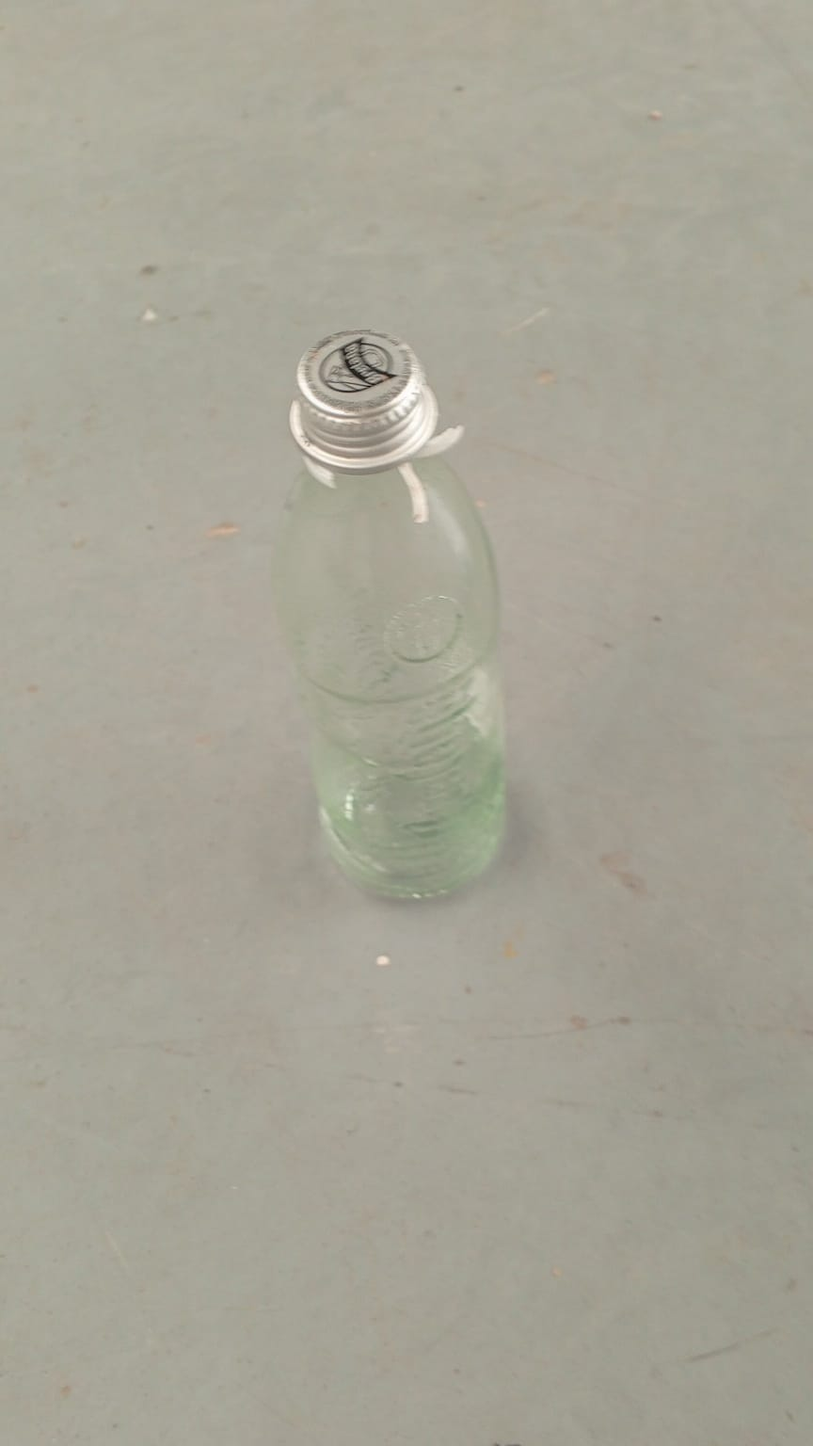Metal: (290, 331, 439, 458)
Vidrio: (270, 466, 502, 895)
